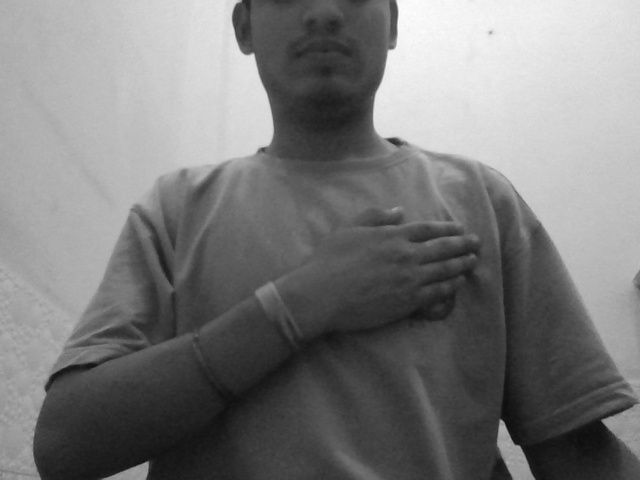Sorry: (290, 193, 494, 375)
